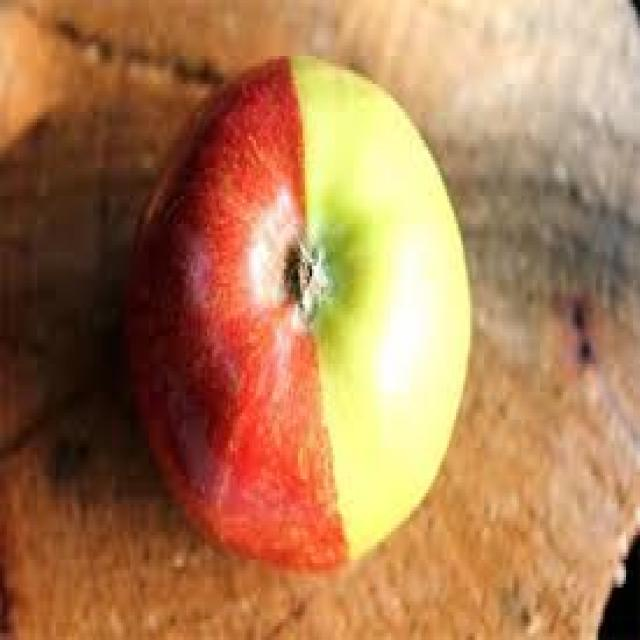Apple: (132, 58, 475, 566)
